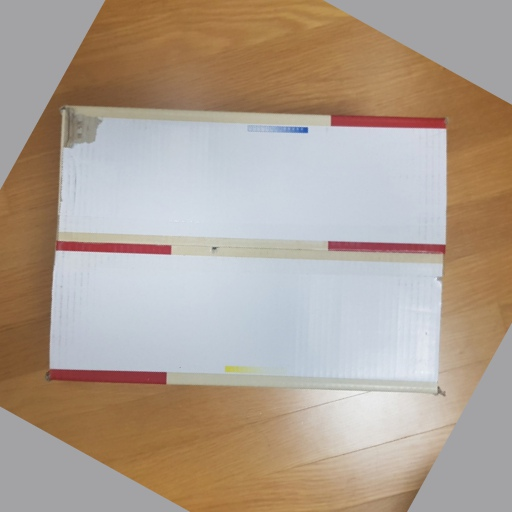Paper_0: (42, 104, 452, 403)
